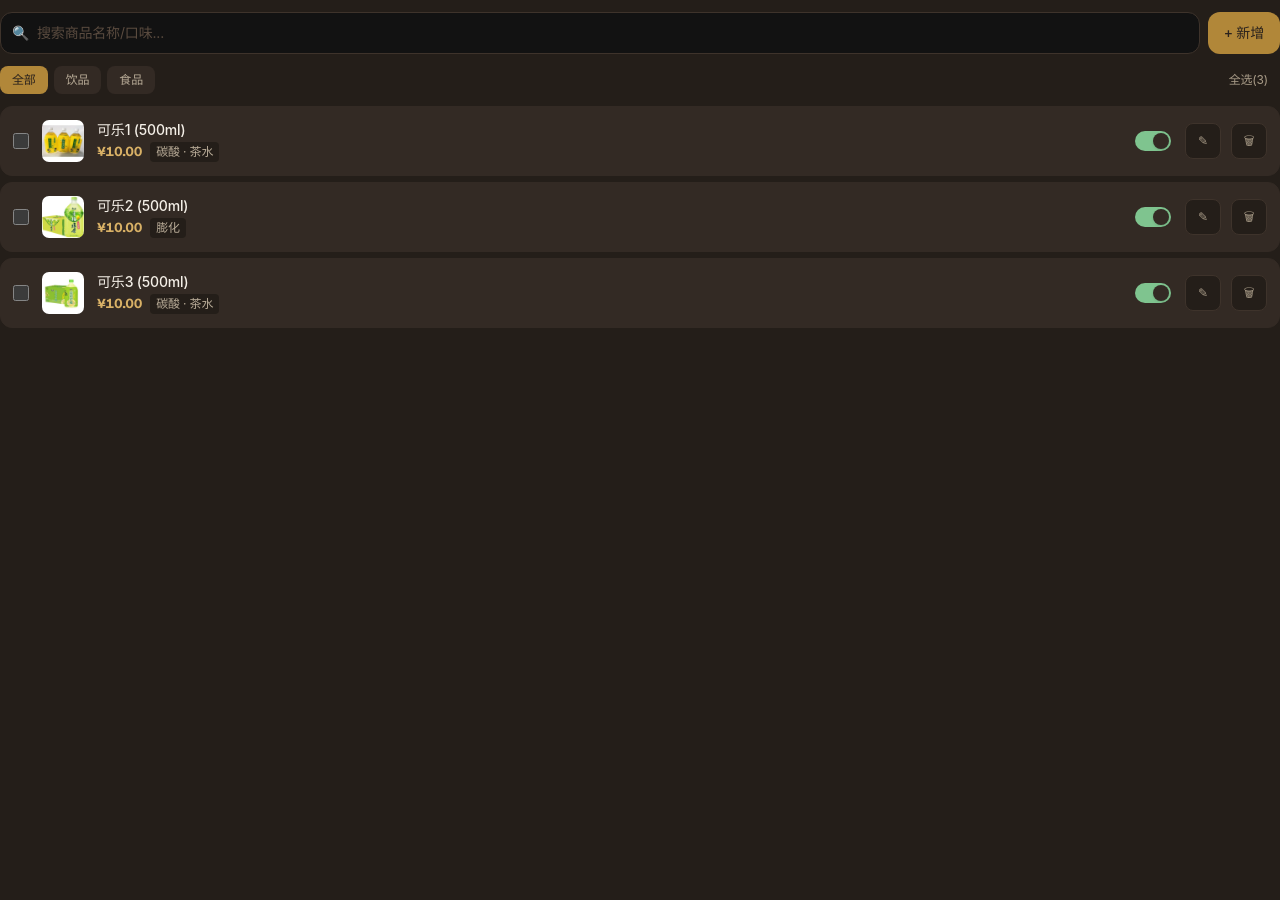
Test: 批量选择与全选 › 全选按钮在"全选(n)/取消全选"两态间切换，且 n 跟随筛选结果
Type "可乐3" into the search field named "搜索商品名称或口味" at (600, 33), box [0,12,1200,54]
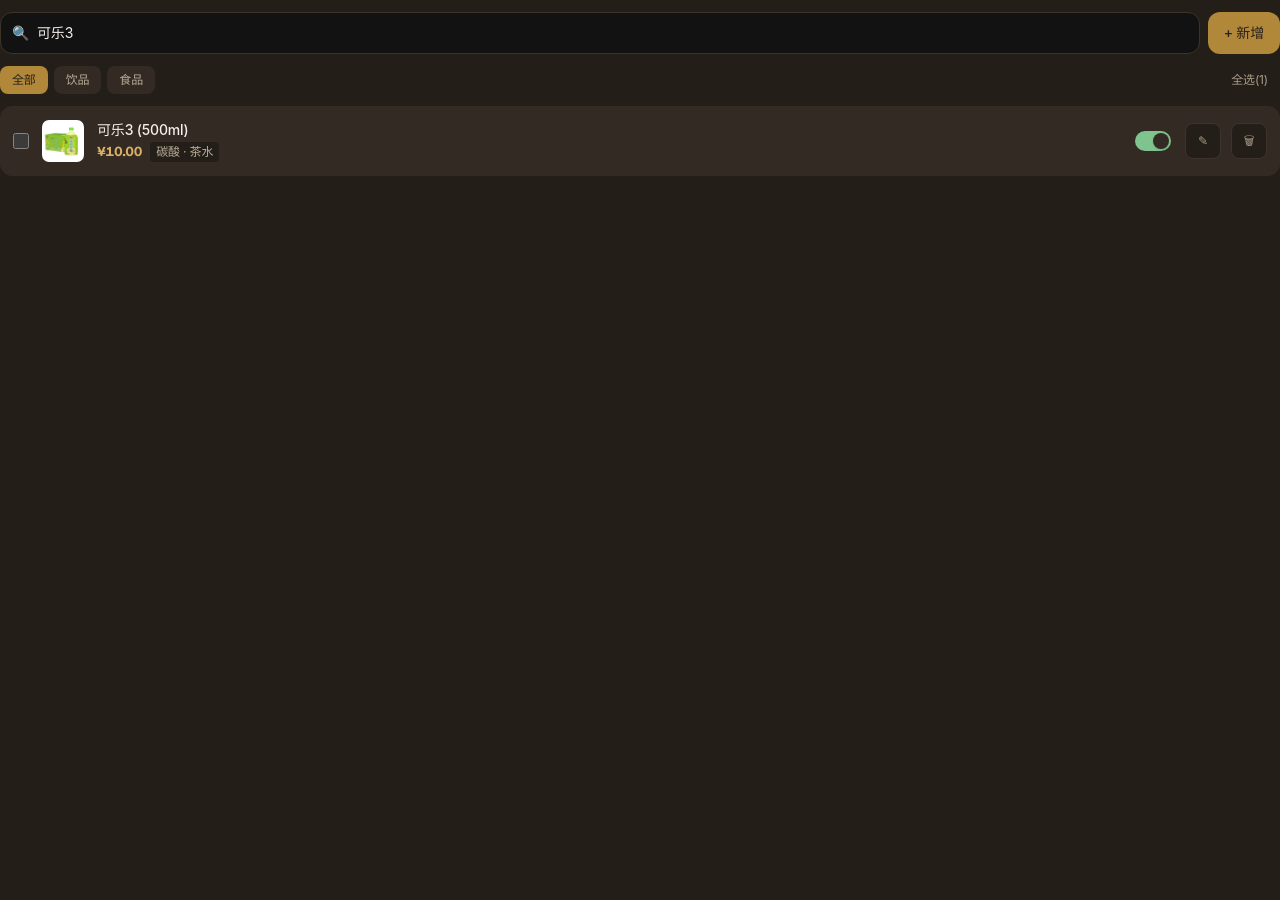
Click the button "全选(1)" at (1250, 80), box [1219,66,1279,94]
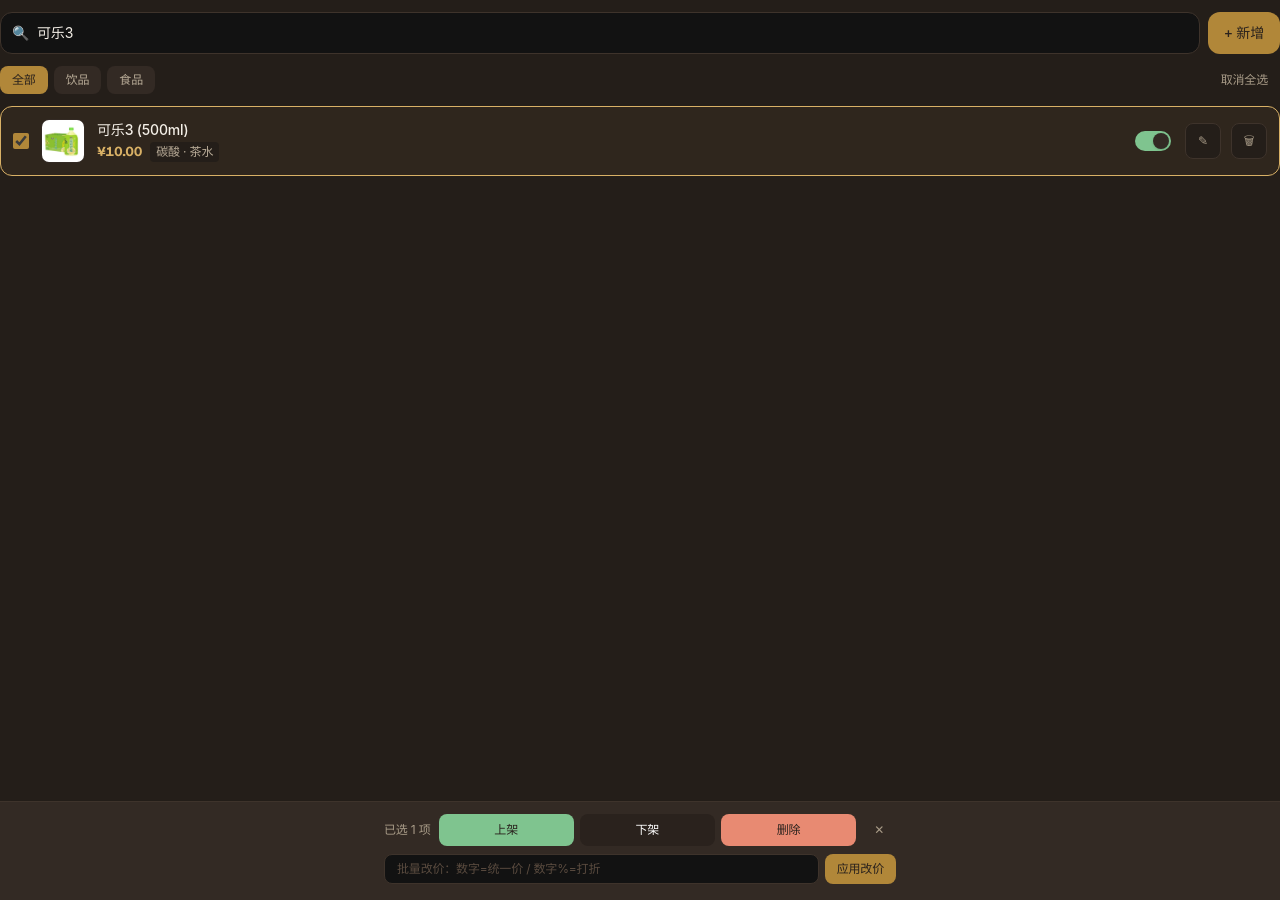
expect the button "取消全选" is shown: met
Click the button "取消全选" at (1244, 80), box [1209,66,1279,94]
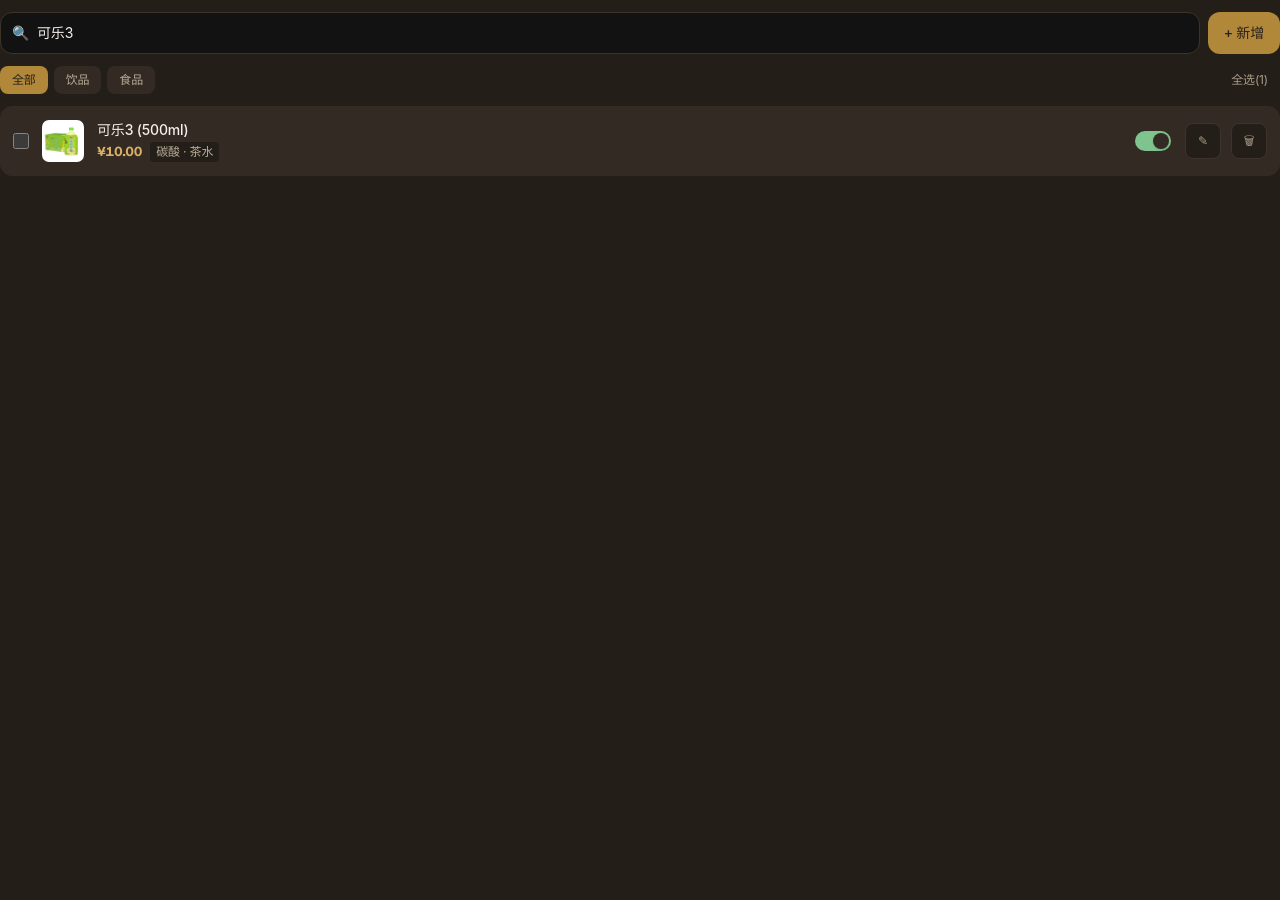
expect the button "全选(1)" is shown: met, box [1219,66,1279,94]
